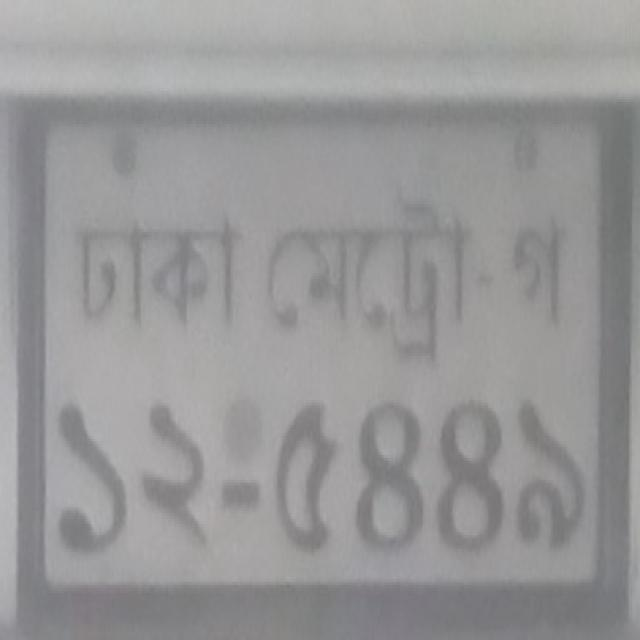numberplate: (11, 85, 635, 629)
